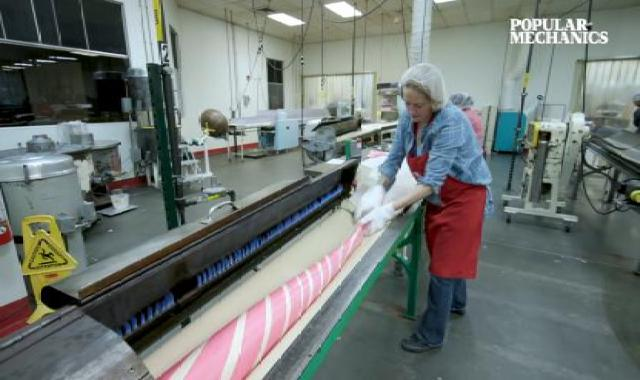hairnet: (396, 64, 452, 112)
